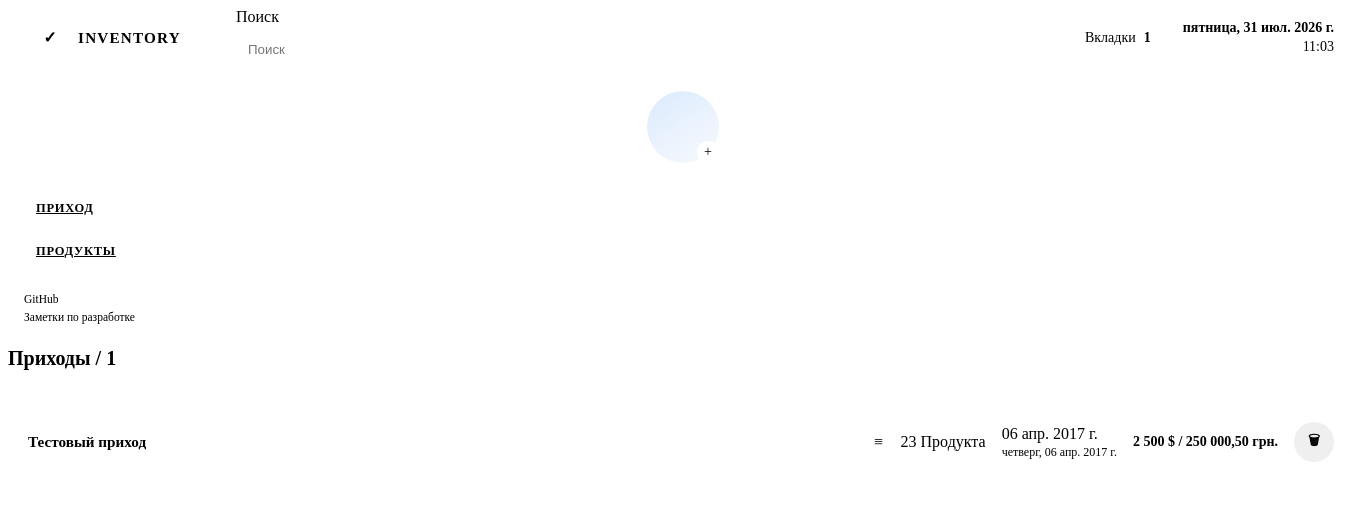
User scenarios (integration) › opens order details panel on card click
Click the heading "Тестовый приход".
click(87, 442)  # box x1=28 y1=433 x2=146 y2=450
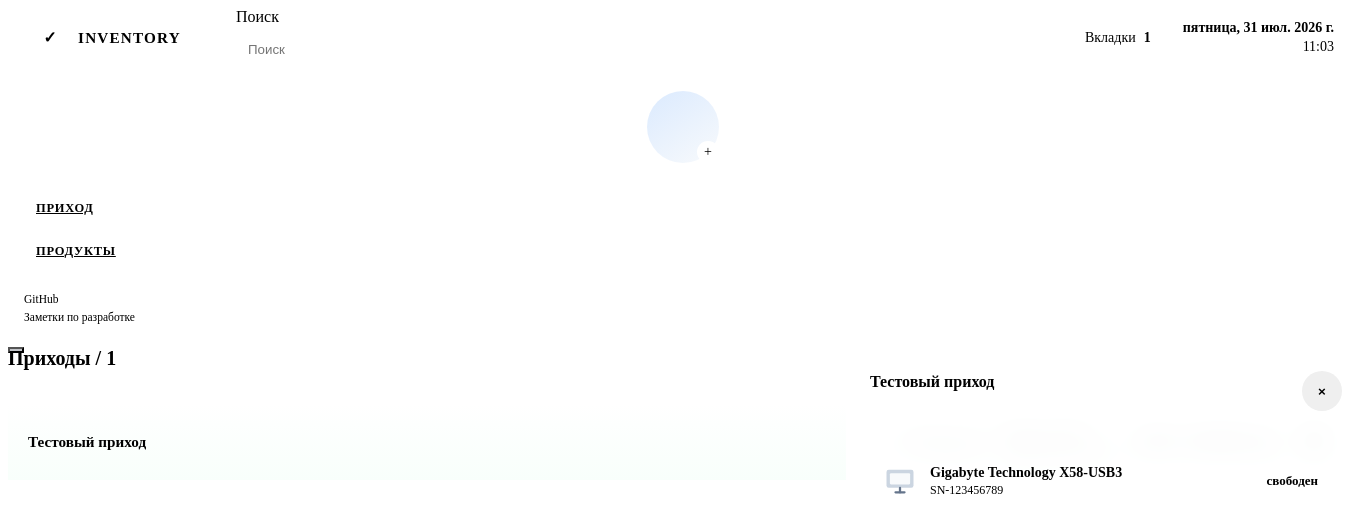
Expected: the 1st heading "Тестовый приход" is shown, x1=870 y1=371 x2=994 y2=393
